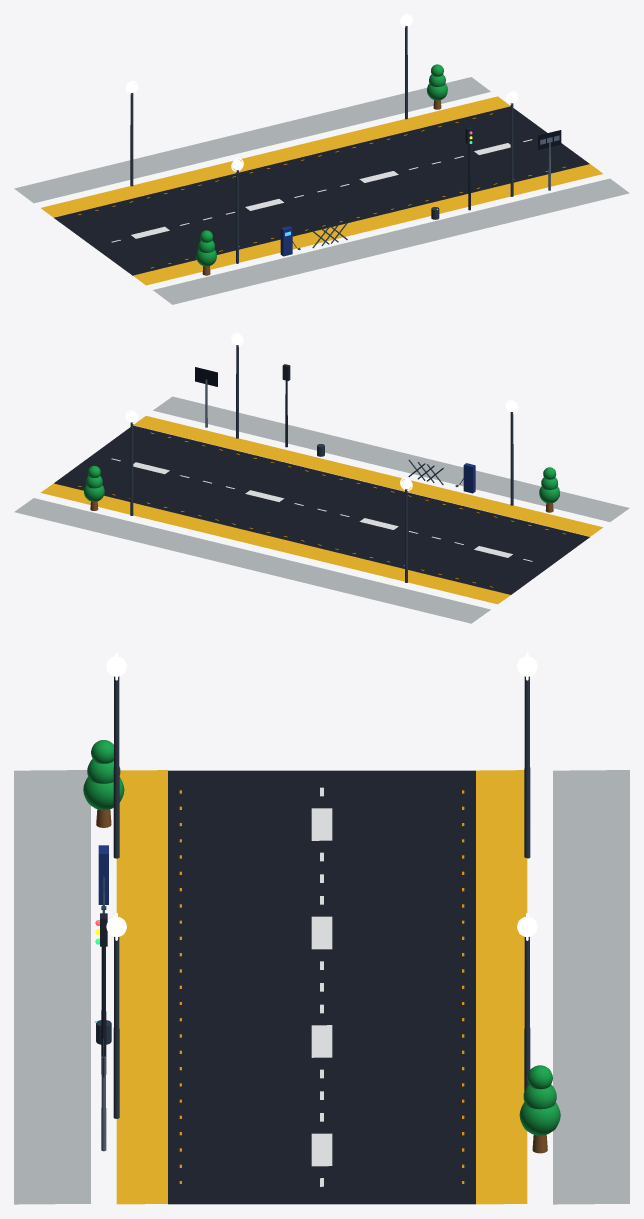
File: modern_street_2025.glb
The picture shows the model from 3 angles, top to bottom: view 1: azimuth 30°, elevation 25°; view 2: azimuth 150°, elevation 25°; view 3: azimuth 270°, elevation 25°; orthographic projection. The views are drawn at different scales.
Visible parts, largest first — view 1: modern_street_2025; view 2: modern_street_2025; view 3: modern_street_2025.
Part boxes in pixels (box(x1,y1,x2,y2)): modern_street_2025: box(14, 14, 629, 304); modern_street_2025: box(14, 333, 629, 623); modern_street_2025: box(14, 652, 629, 1204).
Bounding box in the file's own units: 40 × 8.79 × 24.
